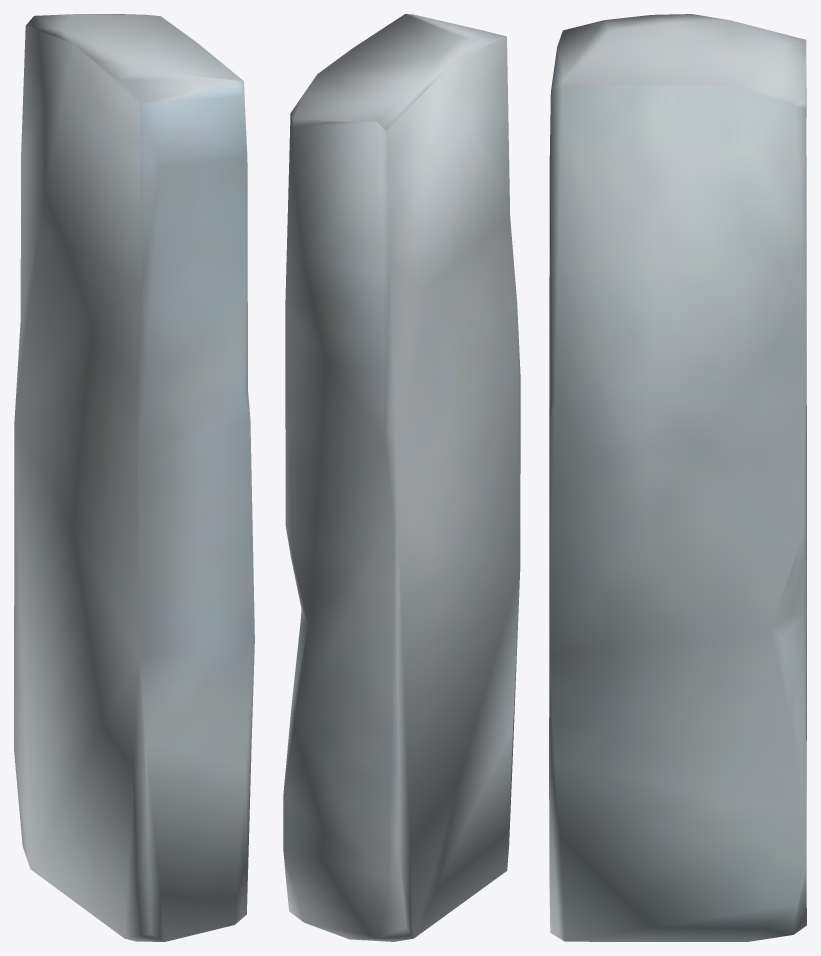
File: P_CubicCliffPiece05.obj
3 renders of one model, left to right at view 1: azimuth 30°, elevation 25°; view 2: azimuth 150°, elevation 25°; view 3: azimuth 270°, elevation 25°, orthographic. The views are drawn at different scales.
Bounding box in the file's own units: 2.94 × 20.56 × 5.51.
